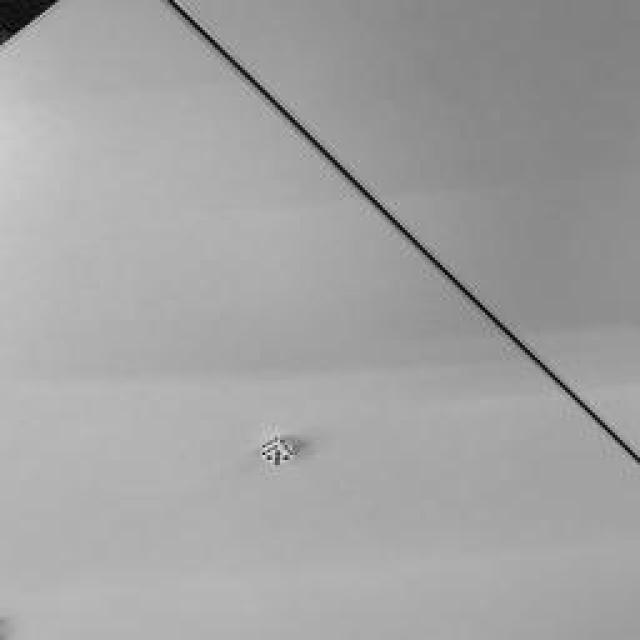dice_5: (261, 449, 294, 466)
